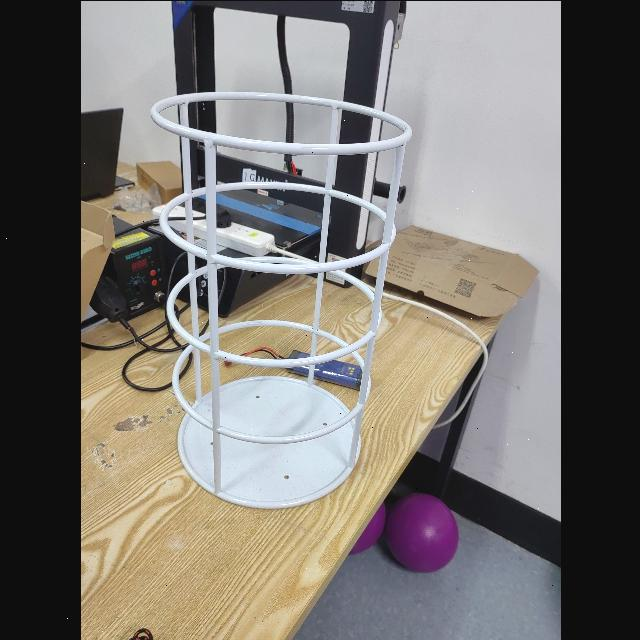S: (147, 86, 413, 514)
